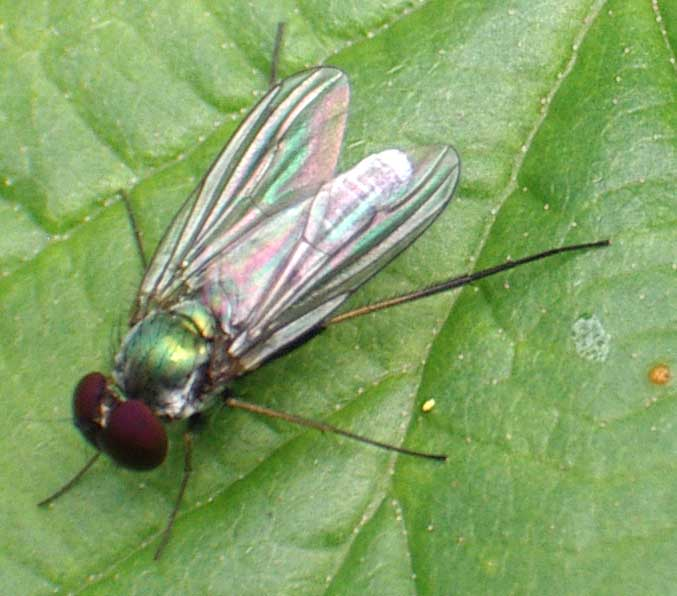green bottles fly: (24, 8, 616, 563)
